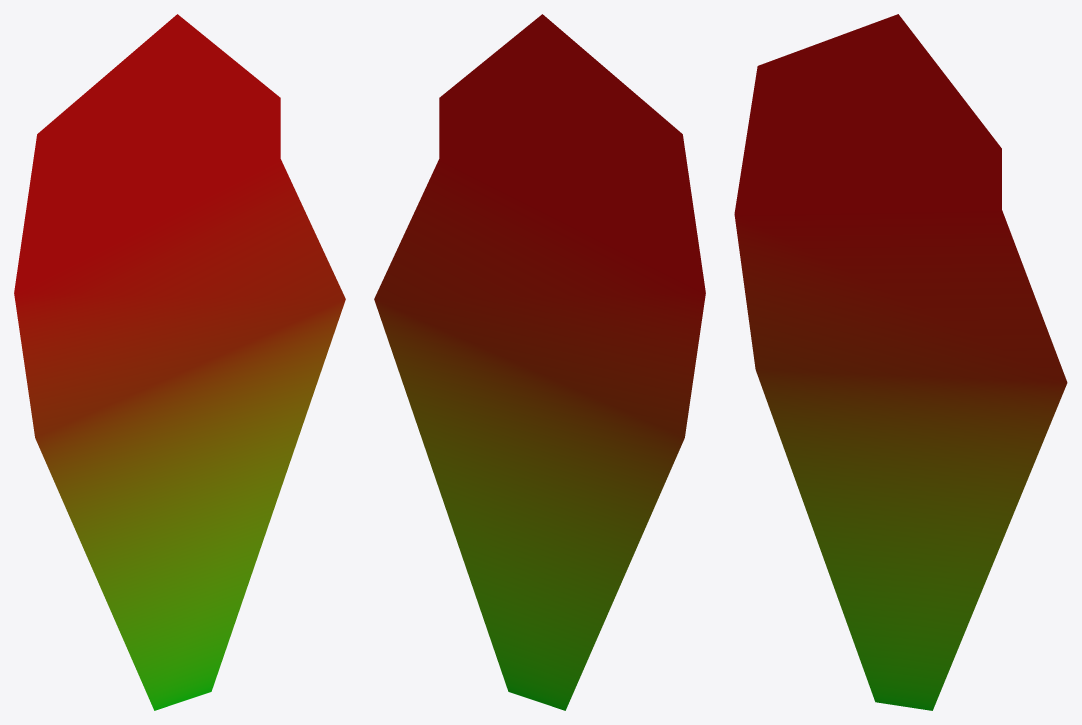
File: Butterfly Weed_LOD4_Var12.fbx
3 renders of one model, left to right at view 1: azimuth 30°, elevation 25°; view 2: azimuth 150°, elevation 25°; view 3: azimuth 330°, elevation 25°, orthographic.
Visible parts, largest first — view 1: _2d6o_Var12_LOD4; view 2: _2d6o_Var12_LOD4; view 3: _2d6o_Var12_LOD4.
Boxes of the visible parts, x1,y1,x2,y2 form: _2d6o_Var12_LOD4: (14,14,345,710); _2d6o_Var12_LOD4: (374,14,705,710); _2d6o_Var12_LOD4: (734,14,1067,710).
Bounding box in the file's own units: 32.07 × 63.85 × 3.9e-06.
